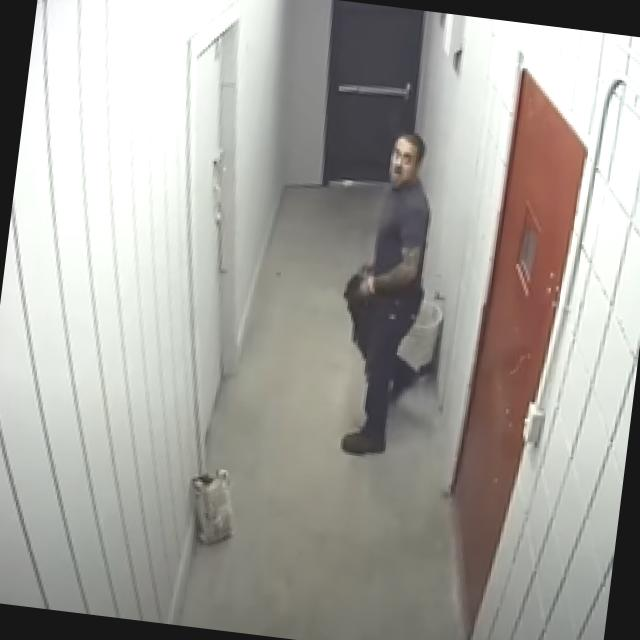person: (324, 126, 443, 461)
